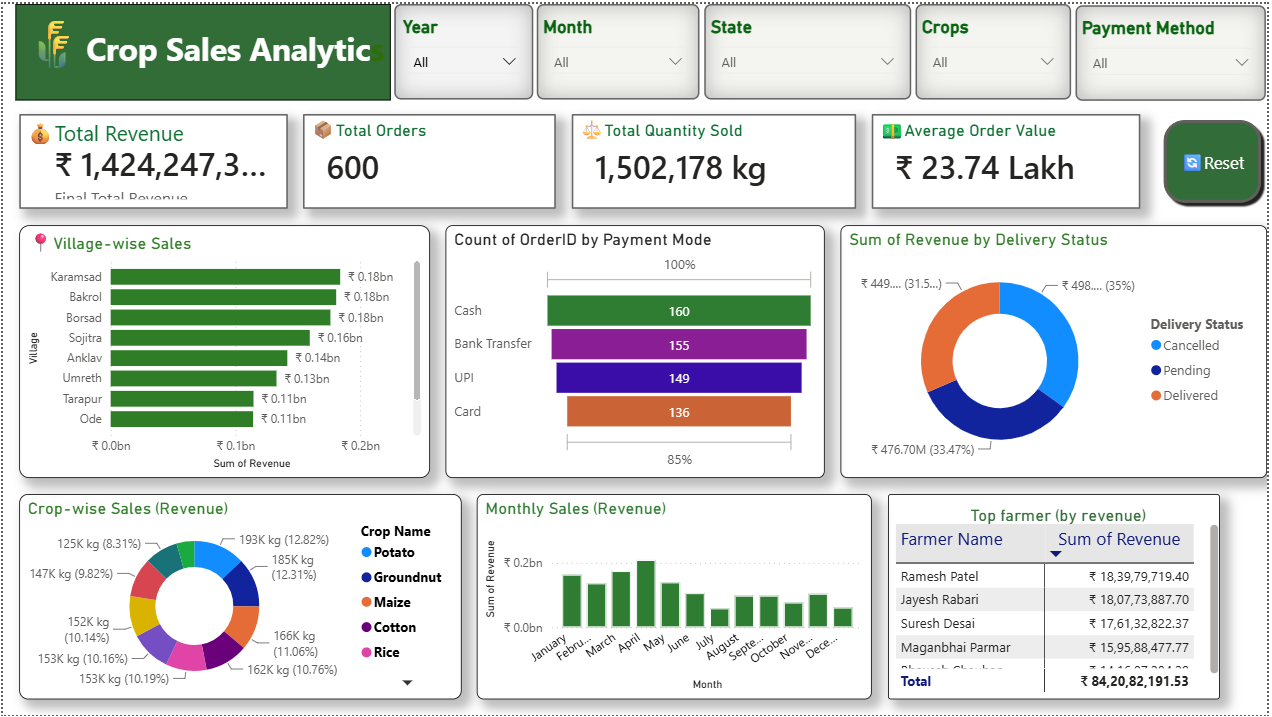

Layout of this report page (visuals, bound fields, positions):
{"tool":"powerbi","page":{"name":"Crop Sales Analytics","canvas":[1280,720],"ordinal":0},"visuals":[{"type":"textbox","box":[12.3,0,380.1,97.4],"z":0},{"type":"slicer","title":"Month","fields":{"Values":["Orders.Date.Variation.Date Hierarchy.Month"]},"box":[540.3,0,164.6,97.1],"z":1000},{"type":"slicer","title":"Year","fields":{"Values":["Orders.Date.Variation.Date Hierarchy.Year","Orders.Year"]},"box":[396.7,0,140.7,97.1],"z":2000},{"type":"slicer","title":"State","fields":{"Values":["Buyers.State"]},"box":[710.5,0,209.6,97.1],"z":3000},{"type":"slicer","title":"Crops","fields":{"Values":["Crops.Crop Name"]},"box":[924.3,0,157.6,97.1],"z":4000},{"type":"slicer","title":"Payment Method","fields":{"Values":["Orders.Payment Mode"]},"box":[1086.1,1.4,192.7,97.1],"z":5000},{"type":"cardVisual","title":"💰Total Revenue","fields":{"Data":["Orders.Final Total Revenue"]},"box":[16,112,272,96],"z":6000},{"type":"cardVisual","title":"📦Total Orders","fields":{"Data":["Count(Orders.OrderID)"]},"box":[304,112,256,96],"z":7000},{"type":"cardVisual","title":"⚖️Total Quantity Sold","fields":{"Data":["Orders.Total Quantity Sold"]},"box":[576,112,288,96],"z":8000},{"type":"cardVisual","title":"💵Average Order Value","fields":{"Data":["Orders.Average Order Value"]},"box":[880,112,272,96],"z":9000},{"type":"clusteredBarChart","title":"📍Village-wise Sales","fields":{"Category":["Farmers.Village"],"Y":["Sum(Orders.Revenue)"]},"box":[16,224,416,256],"z":10000},{"type":"donutChart","title":"Crop-wise Sales (Revenue)","fields":{"Category":["Crops.Crop Name"],"Y":["Sum(Orders.Quantity)"]},"box":[16,496,448,208],"z":11000},{"type":"donutChart","fields":{"Category":["Orders.Delivery Status"],"Y":["Sum(Orders.Revenue)"]},"box":[848,224,432,256],"z":12000},{"type":"pivotTable","title":"Top farmer (by revenue)","fields":{"Rows":["Farmers.Farmer Name"],"Values":["Sum(Orders.Revenue)"]},"box":[896,496,336,208],"z":13000},{"type":"funnel","fields":{"Y":["CountNonNull(Orders.OrderID)"],"Category":["Orders.Payment Mode"]},"box":[448,224,384,256],"z":14000},{"type":"clusteredColumnChart","title":"Monthly Sales (Revenue)","fields":{"Category":["Orders.Date.Variation.Date Hierarchy.Month"],"Y":["Sum(Orders.Revenue)"]},"box":[480,496,400,208],"z":15000},{"type":"actionButton","box":[1168,112,112,96],"z":16000}]}

Visuals, with their boxes in screenshot pixels (x1, y1, x2, y2), scaled from the page's 1280x720 canvas onto the 1272x717 screenshot:
textbox: <box>12,0,390,97</box>
"Month" slicer: <box>537,0,700,97</box>
"Year" slicer: <box>394,0,534,97</box>
"State" slicer: <box>706,0,914,97</box>
"Crops" slicer: <box>919,0,1075,97</box>
"Payment Method" slicer: <box>1079,1,1271,98</box>
"💰Total Revenue" cardVisual: <box>16,112,286,207</box>
"📦Total Orders" cardVisual: <box>302,112,556,207</box>
"⚖️Total Quantity Sold" cardVisual: <box>572,112,859,207</box>
"💵Average Order Value" cardVisual: <box>874,112,1145,207</box>
"📍Village-wise Sales" clusteredBarChart: <box>16,223,429,478</box>
"Crop-wise Sales (Revenue)" donutChart: <box>16,494,461,701</box>
donutChart - Orders.Delivery Status x Sum(Orders.Revenue): <box>843,223,1271,478</box>
"Top farmer (by revenue)" pivotTable: <box>890,494,1224,701</box>
funnel - CountNonNull(Orders.OrderID) x Orders.Payment Mode: <box>445,223,827,478</box>
"Monthly Sales (Revenue)" clusteredColumnChart: <box>477,494,874,701</box>
actionButton: <box>1161,112,1271,207</box>
